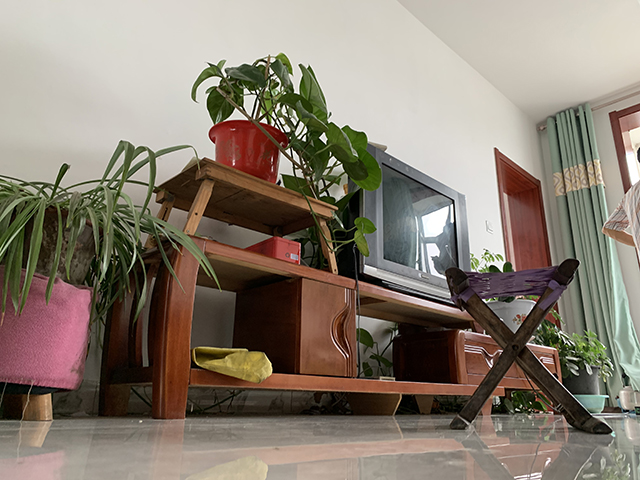cabinet: (95, 233, 565, 422)
curtain: (545, 100, 640, 409)
stool: (444, 256, 614, 436), (1, 265, 102, 423)
